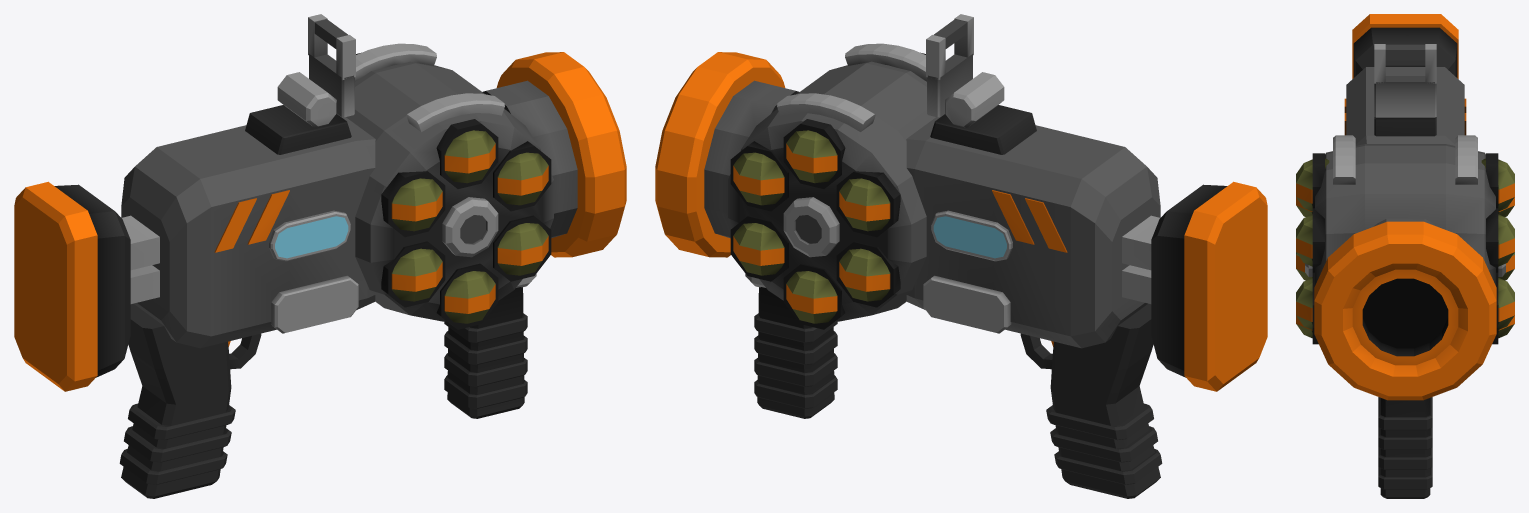
The model's file is grenade-launcher.glb.
3 renders of one model, left to right at view 1: azimuth 30°, elevation 25°; view 2: azimuth 150°, elevation 25°; view 3: azimuth 270°, elevation 25°, orthographic. The views are drawn at different scales.
Parts seen in each view (by area): view 1: orb-blaster; view 2: orb-blaster; view 3: orb-blaster.
Boxes of the visible parts, box(x1,y1,x2,y2) form: orb-blaster: box(14, 14, 626, 498); orb-blaster: box(655, 14, 1267, 498); orb-blaster: box(1296, 14, 1514, 498).
Size of the model in its own units: 0.9 by 0.66 by 0.3502.
Materials: 1 (1 with a texture image).
